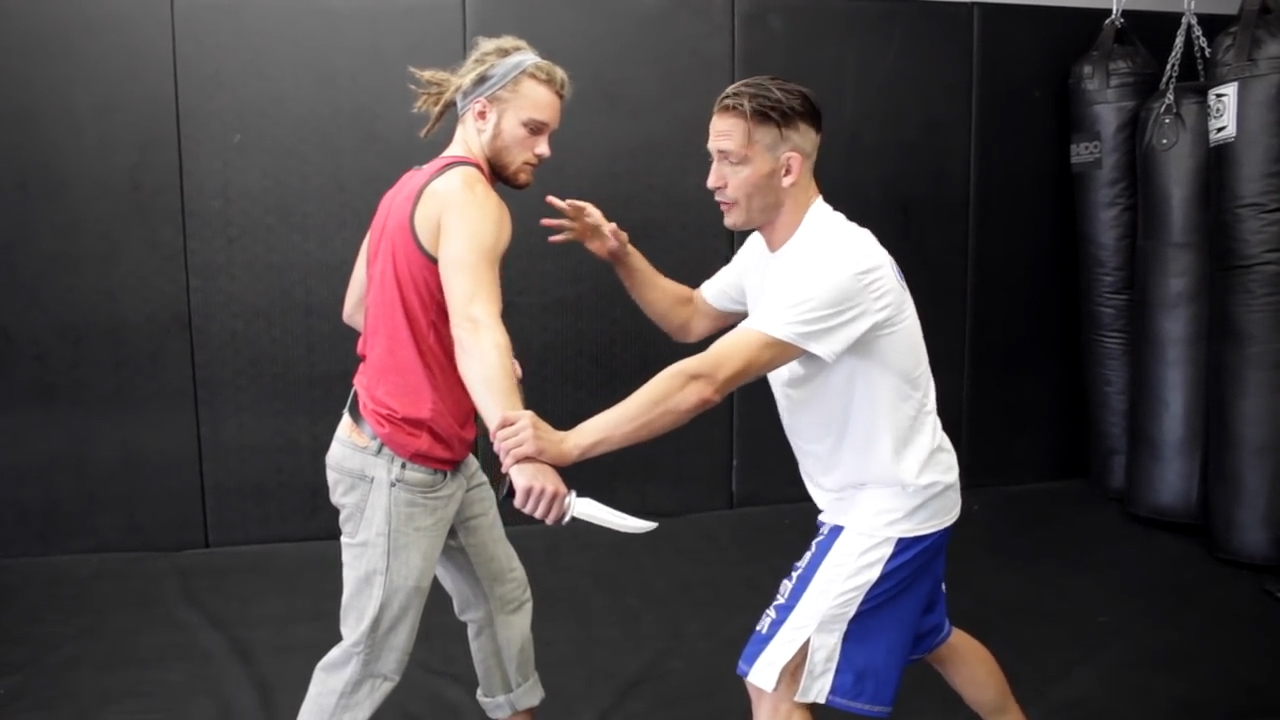knife: (495, 469, 673, 545)
